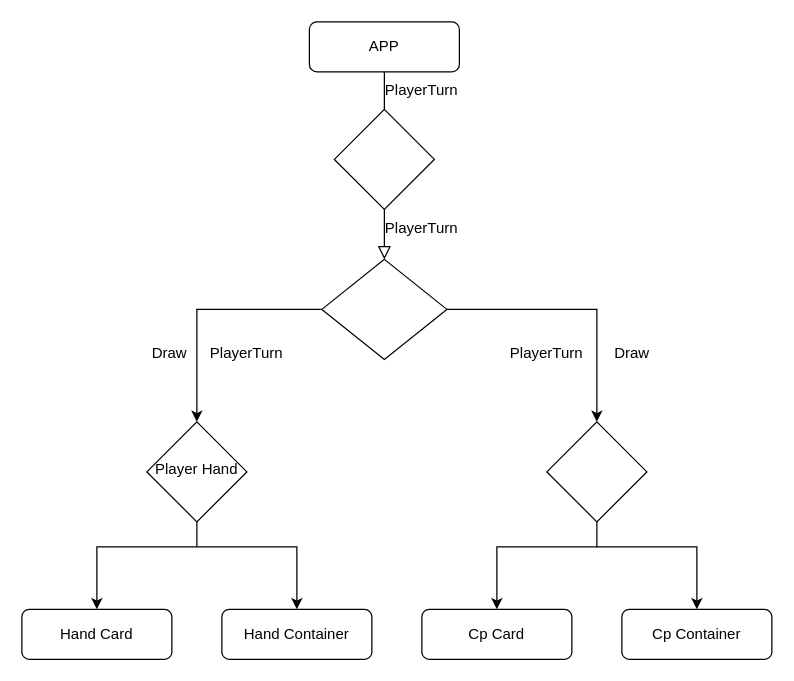
This 794x681 diagram has some shape labels left out. The centre of each missing label's shape, as x and y in pixels:
"Computer Hand" belongs at [596,471].
"Deck of Cards" belongs at [384,308].
"Header" belongs at [383,158].
